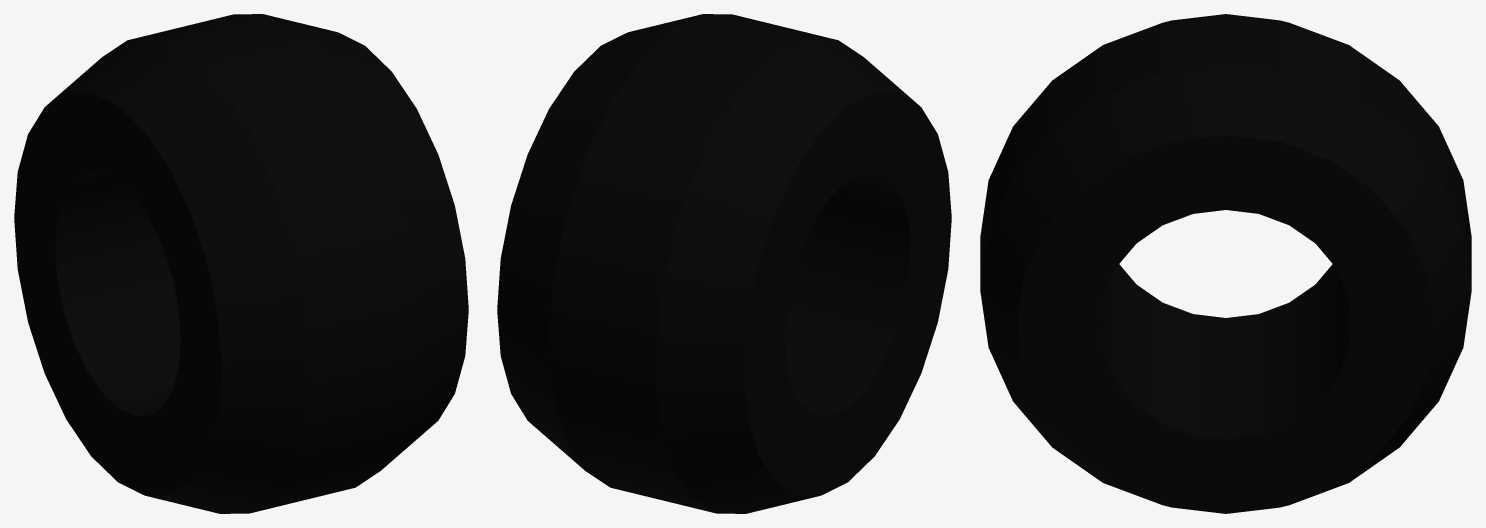
File: debris-tire.glb
3 renders of one model, left to right at view 1: azimuth 30°, elevation 25°; view 2: azimuth 150°, elevation 25°; view 3: azimuth 270°, elevation 25°, orthographic.
Visible parts, largest first — view 1: debris-tire; view 2: debris-tire; view 3: debris-tire.
Boxes of the visible parts, x1,y1,x2,y2 form: debris-tire: [14, 14, 468, 513]; debris-tire: [497, 14, 951, 513]; debris-tire: [980, 14, 1471, 513].
Bounding box in the file's own units: 0.35 × 0.6 × 0.6.
Materials: 1 (1 with a texture image).
